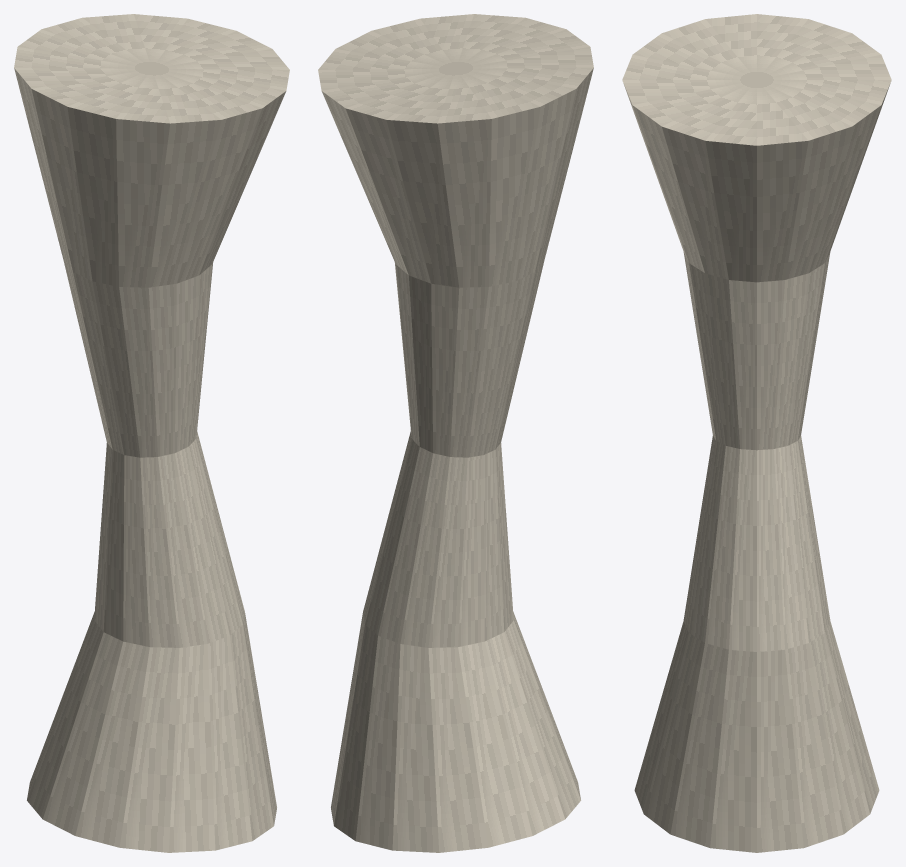
File: cave-and-crystal-networks-full-column-f31afc1f.glb
3 renders of one model, left to right at view 1: azimuth 30°, elevation 25°; view 2: azimuth 150°, elevation 25°; view 3: azimuth 270°, elevation 25°, orthographic. The views are drawn at different scales.
Parts seen in each view (by area): view 1: full-column; view 2: full-column; view 3: full-column.
Boxes of the visible parts, <box> form: full-column: <box>14,14,289,852</box>; full-column: <box>318,14,593,852</box>; full-column: <box>622,14,891,852</box>.
Bounding box in the file's own units: 1.1 × 3.29 × 1.1.
Materials: 1 (1 with a texture image).
